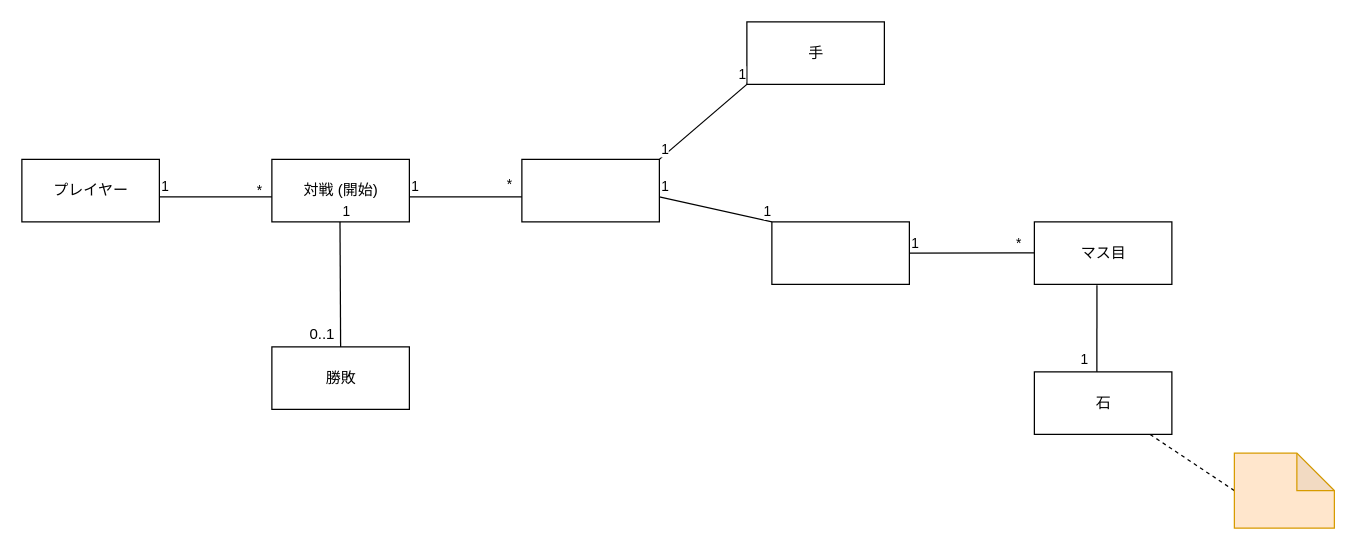
Image size: 1356x550. Some labels were removed from this diagram. The box of each missing label's shape, as (x1, y1, x2, y2) in pixels:
ターン: (521, 158, 659, 222)
盤面: (771, 221, 909, 284)
石の種類 ・空 ・黒 ・白: (1233, 452, 1334, 528)
